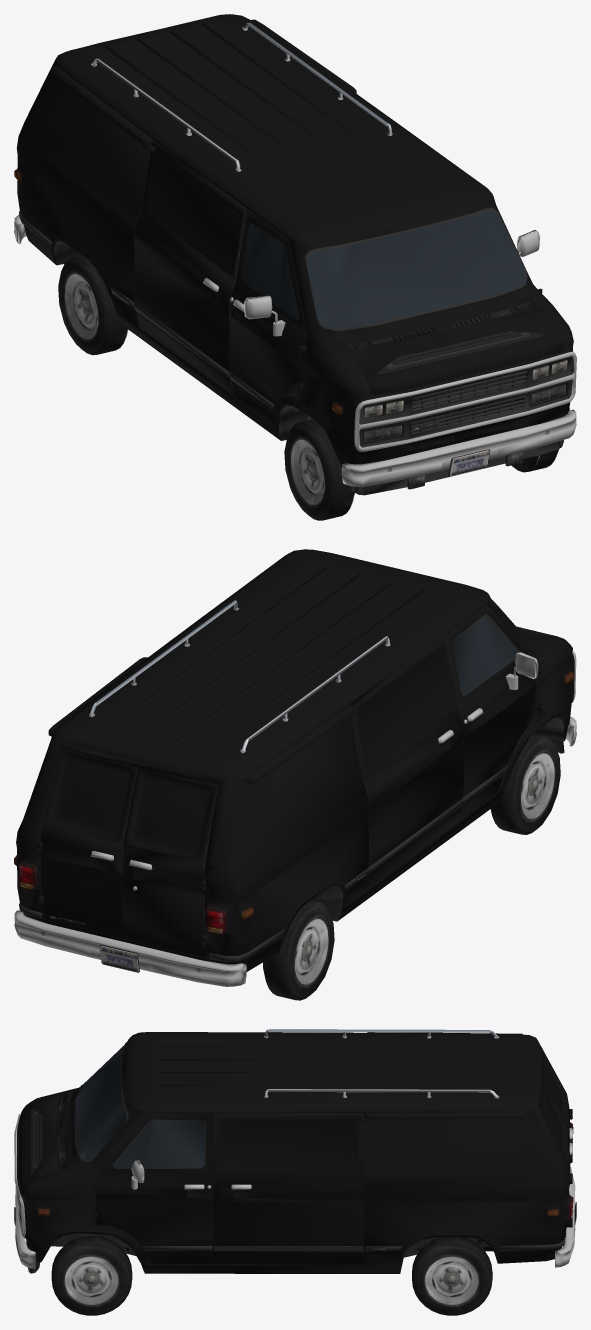
File: van_delivery.gltf
The picture shows the model from 3 angles, top to bottom: view 1: azimuth 30°, elevation 25°; view 2: azimuth 150°, elevation 25°; view 3: azimuth 270°, elevation 25°; orthographic projection. The views are drawn at different scales.
Visible parts, largest first — view 1: van_delivery; view 2: van_delivery; view 3: van_delivery.
Part boxes in pixels (x1,y1,x2,y2): van_delivery: (14,14,576,520); van_delivery: (14,549,576,1000); van_delivery: (14,1029,576,1315).
Size of the model in its own units: 2.35 by 2.06 by 4.9.
1 material, 1 textured.
